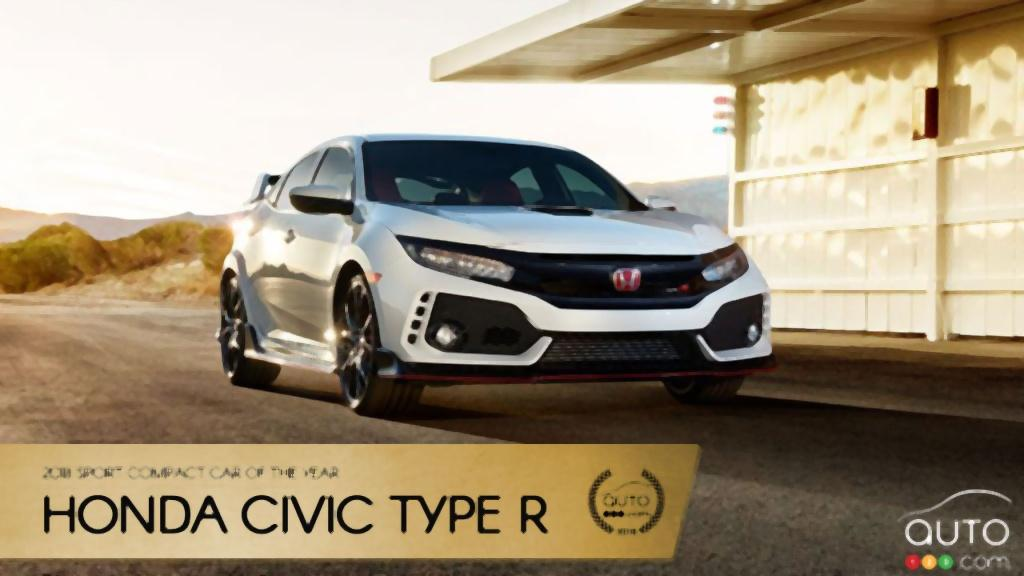Driver-s door - -F-R-: (296, 138, 360, 354)
Fender - -F-R-: (325, 204, 399, 376)
Front bumper: (372, 265, 782, 386)
Headlight - -L-: (696, 239, 754, 290)
Headlight - -R-: (396, 227, 517, 289)
Passenger-s door - -R-R-: (256, 140, 319, 351)
Side bumper - -R-: (233, 323, 345, 380)
Side mirror - -L-: (362, 198, 748, 258), (636, 188, 685, 217)
Side mirror - -R-: (287, 178, 359, 224)
